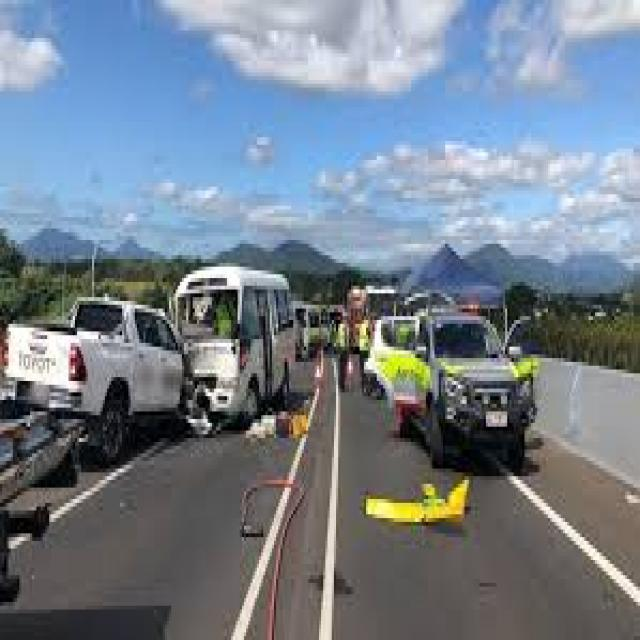accident: (29, 258, 306, 448)
